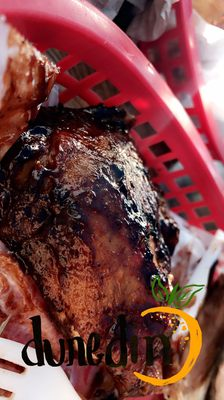sushi: (0, 68, 220, 398)
